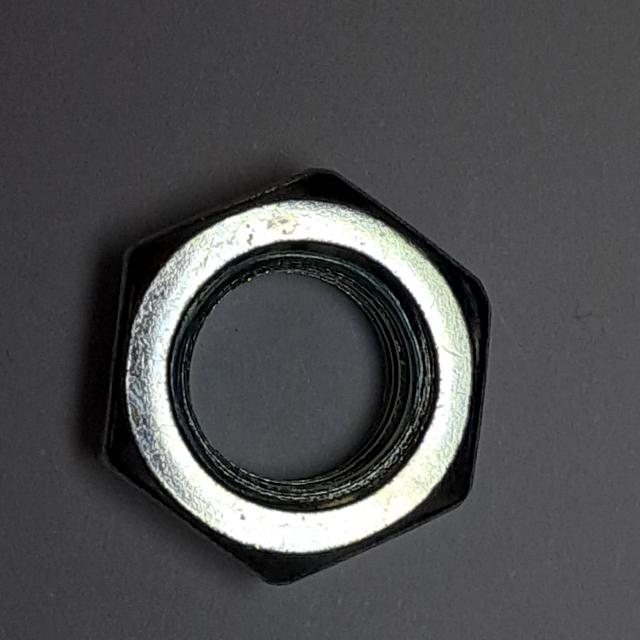Excellent: (91, 158, 505, 607)
